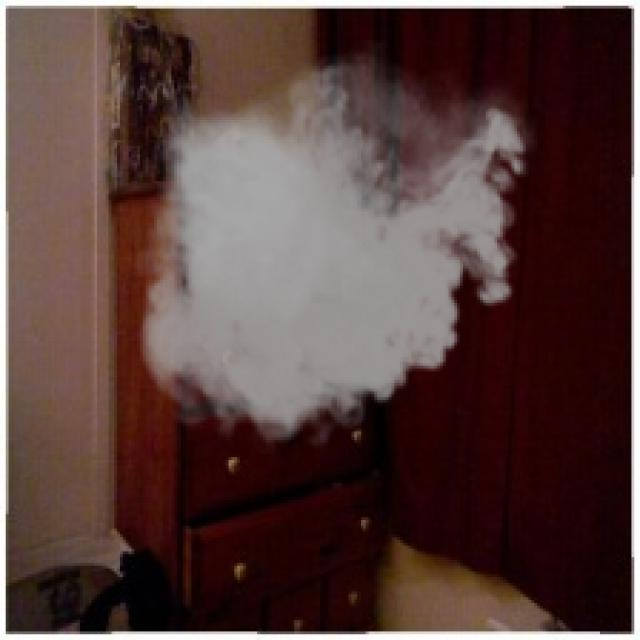smoke: (126, 40, 540, 457)
